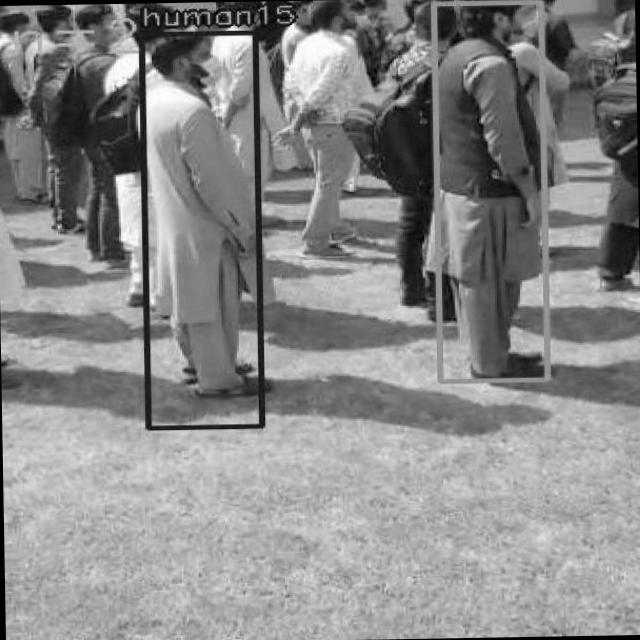person: (138, 30, 261, 427), (430, 0, 547, 380)
